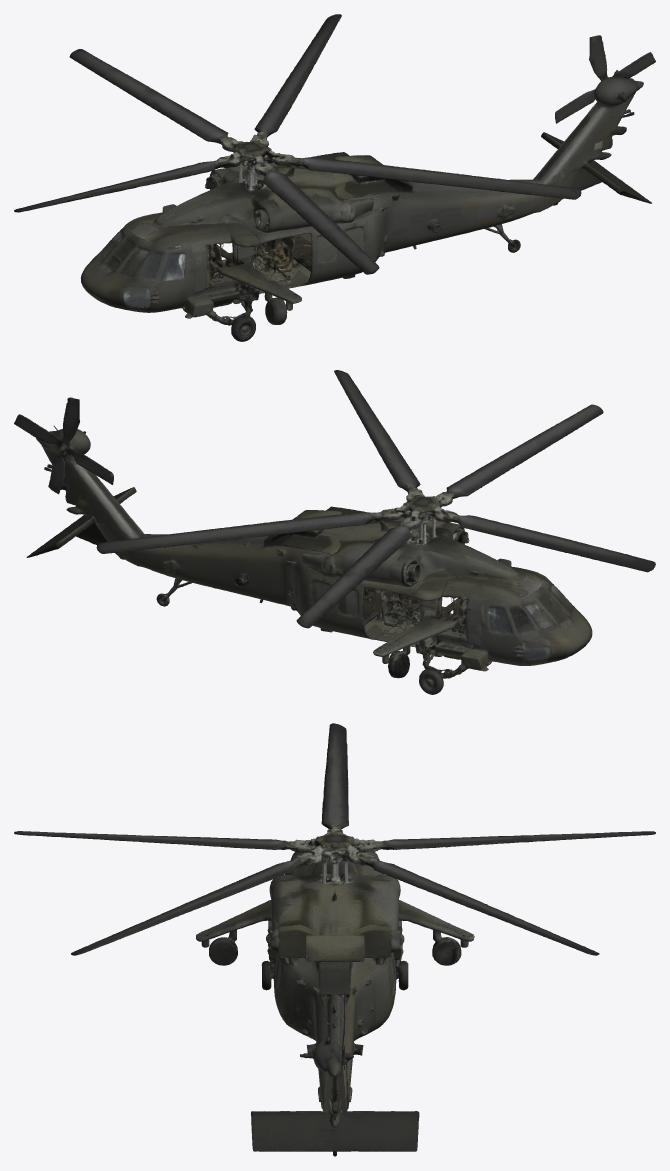
The model's file is Meshy_AI_blackhawk_0405135622_texture.glb.
3 views of the same model, one above another, from view 1: azimuth 30°, elevation 25°; view 2: azimuth 150°, elevation 25°; view 3: azimuth 270°, elevation 25° (orthographic). The views are drawn at different scales.
Size of the model in its own units: 1.9 by 0.5425 by 1.54.
Materials: 1 (1 with a texture image).
